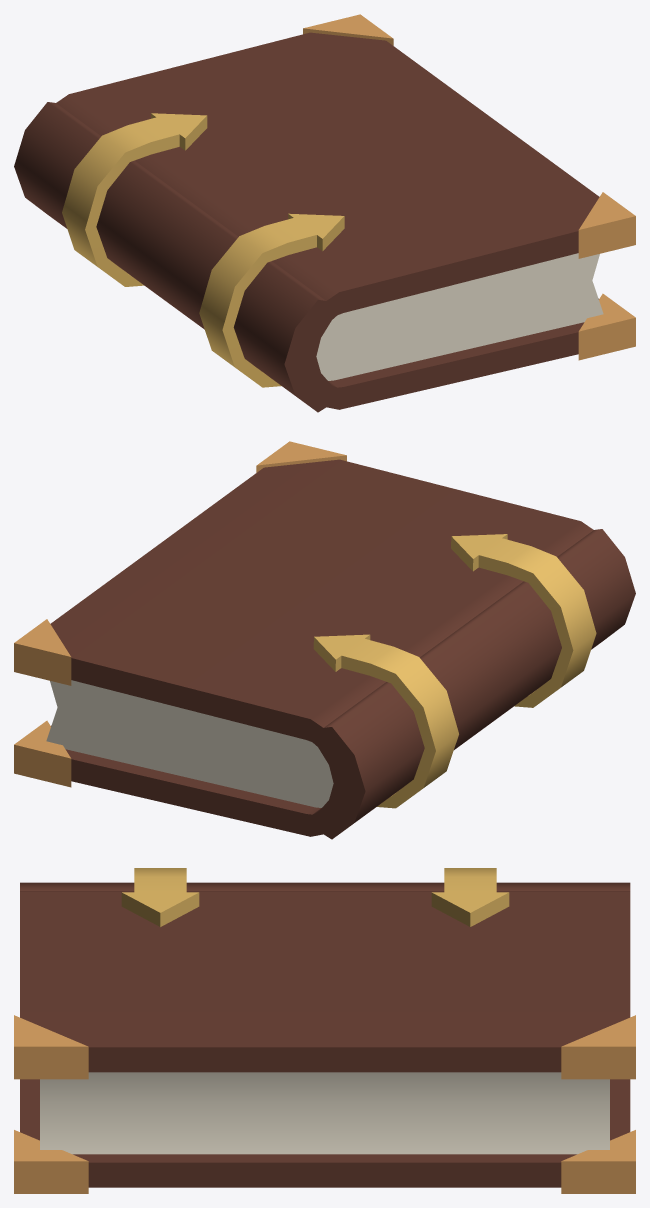
The model's file is Book_F.fbx.
The picture shows the model from 3 angles, top to bottom: view 1: azimuth 30°, elevation 25°; view 2: azimuth 150°, elevation 25°; view 3: azimuth 270°, elevation 25°; orthographic projection. The views are drawn at different scales.
Parts seen in each view (by area): view 1: Book_F; view 2: Book_F; view 3: Book_F.
Part boxes in pixels (box(x1,y1,x2,y2)): Book_F: box(14, 14, 635, 412); Book_F: box(14, 441, 635, 839); Book_F: box(14, 868, 635, 1193).
Bounding box in the file's own units: 26.37 × 10.23 × 34.95.
